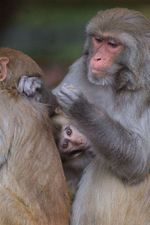monkey: (34, 93, 126, 217), (70, 13, 150, 138), (0, 37, 54, 222)
